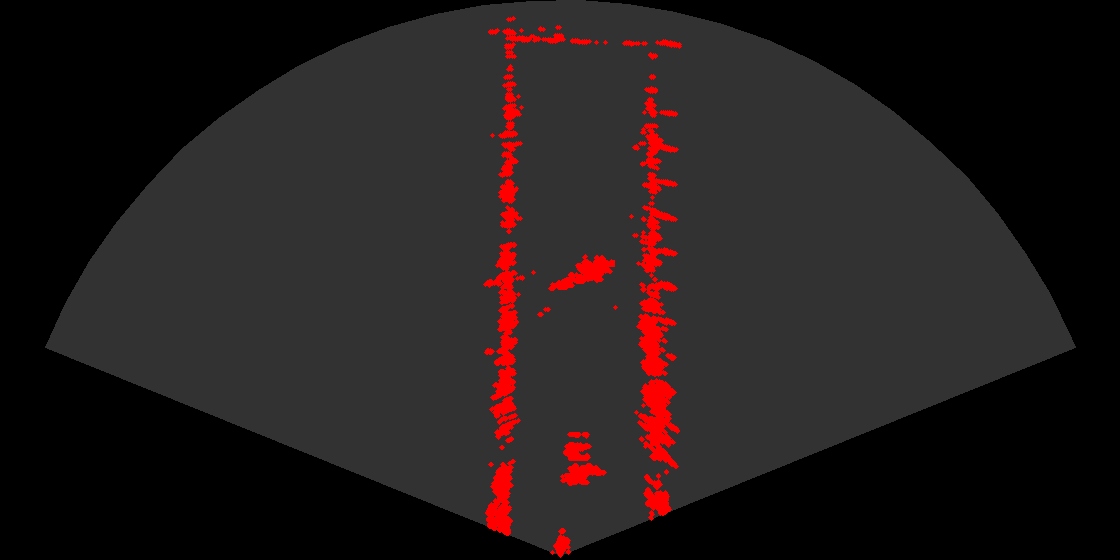AUV: (554, 461, 610, 493)
ball: (543, 424, 603, 465)
frogman: (547, 248, 615, 295)
